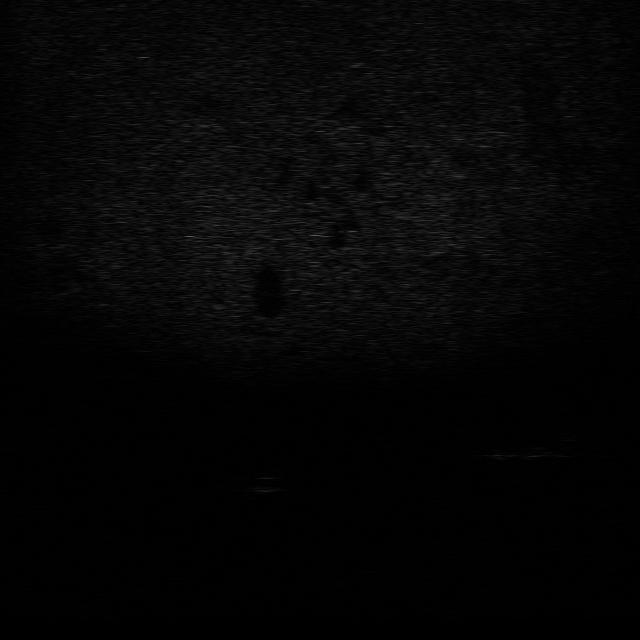ball: (244, 471, 288, 496)
human body: (482, 428, 582, 463)
